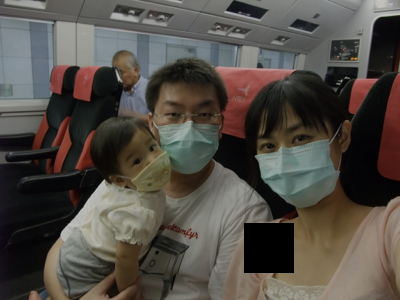with_mask: (253, 116, 342, 210), (152, 96, 222, 174), (120, 134, 173, 194)
without_mask: (118, 66, 135, 90)
